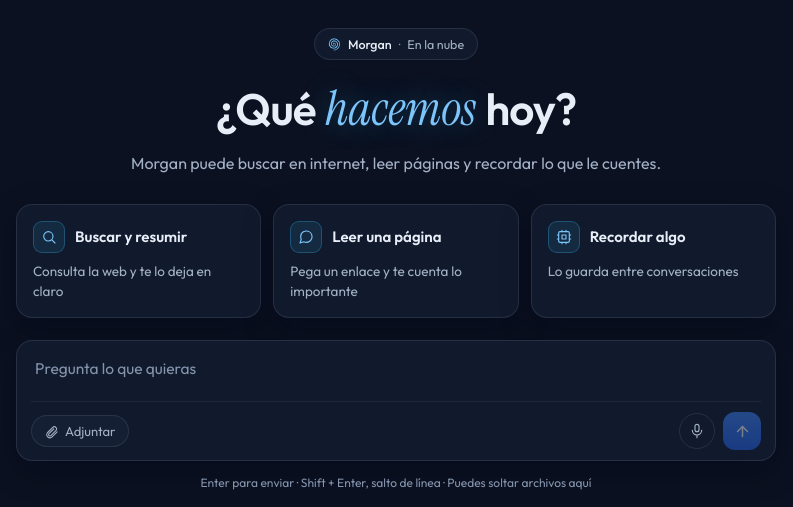
it: La conexión se corta a mitad del turno › con el reloj del móvil adelantado, la reconoce porque hay mensajes nuevos
Step 1. Type "hola" into the text box → (396, 378), box [31,355,761,401]
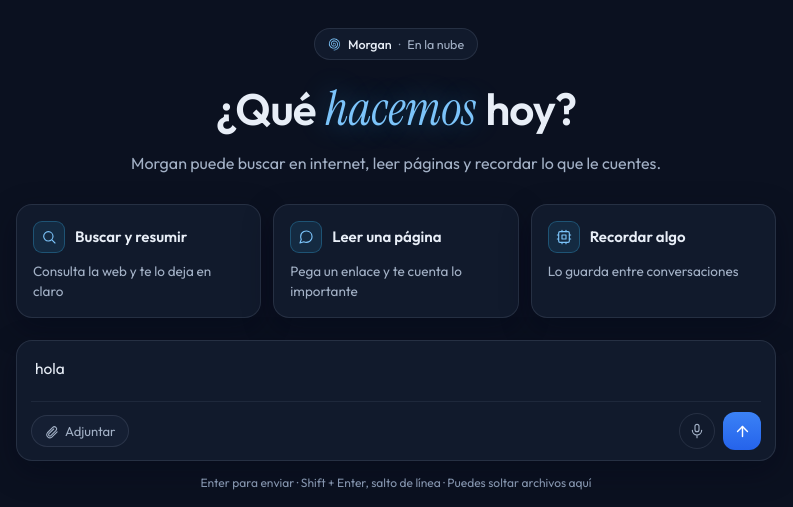
Step 2. Press Enter in the text box, box [31,355,761,401]
Wait 5000 ms
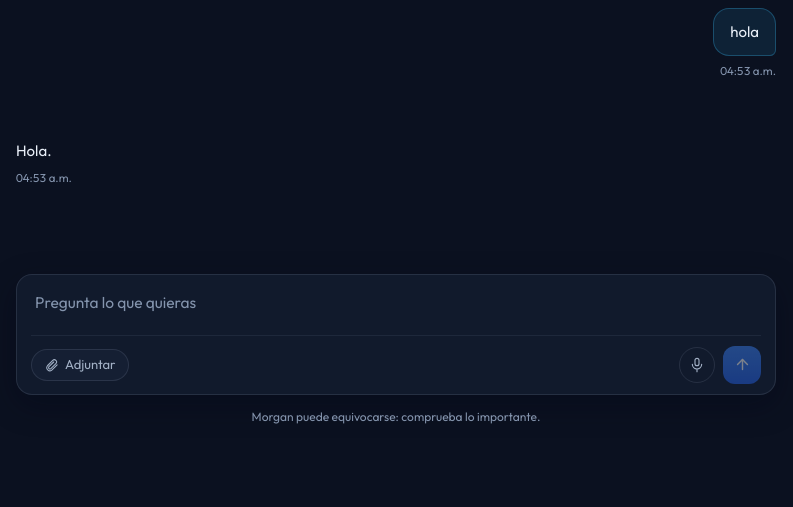
Now the text "Hola." is shown, box [16,141,52,160]
